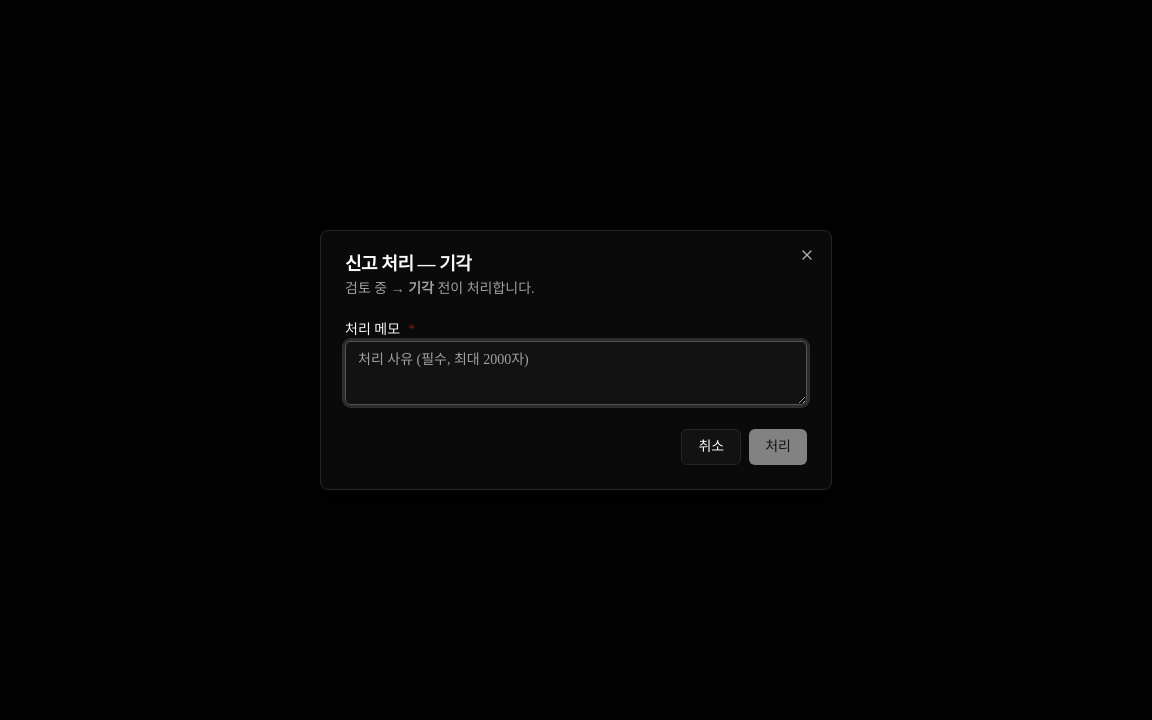
Scenario: TransitionStatusDialog › terminal + note 입력 → submit enabled + onOpenChange(false) on success
Later steps or results of the test are not shown.
Type "스팸 신고 — 기각" into the text box labelled "처리 메모 *" at (576, 373), box x1=345 y1=341 x2=807 y2=405
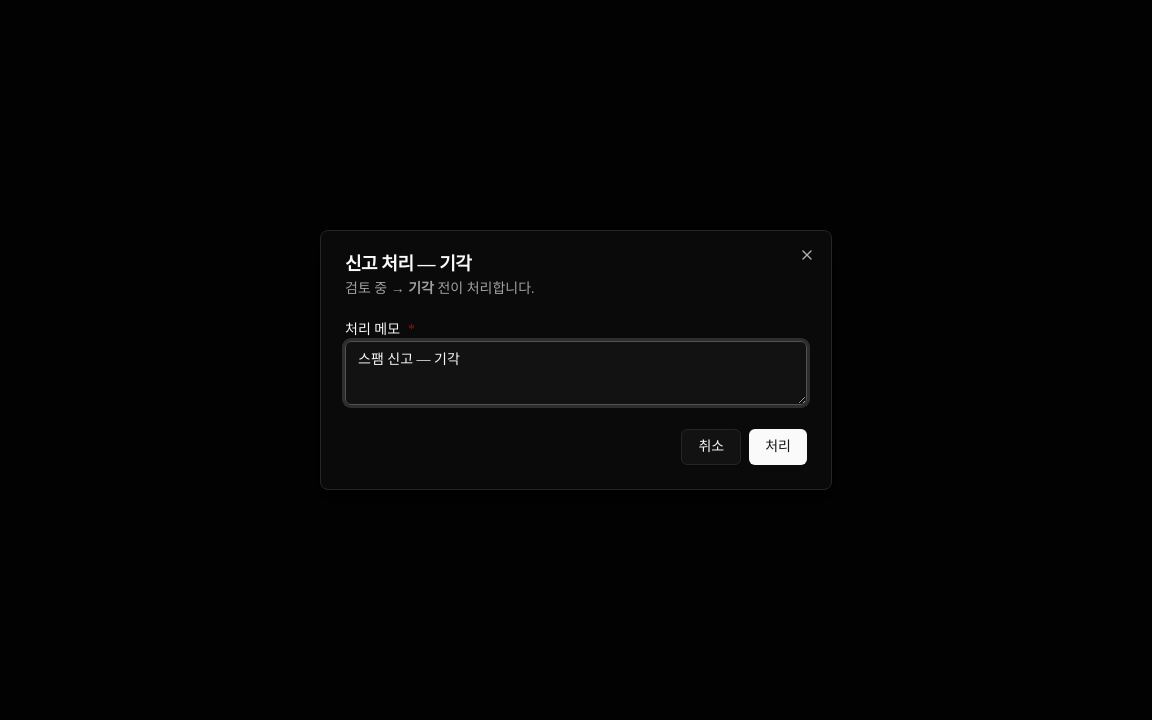
Now the button "처리" is enabled, box x1=749 y1=429 x2=807 y2=465
